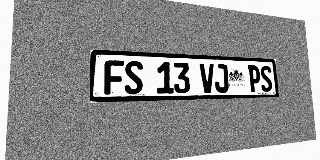1: (157, 62, 174, 94)
3: (173, 62, 190, 93)
F: (104, 60, 124, 95)
J: (214, 64, 229, 93)
P: (248, 65, 261, 92)
S: (124, 61, 143, 94), (260, 66, 273, 92)
V: (199, 63, 215, 93)
